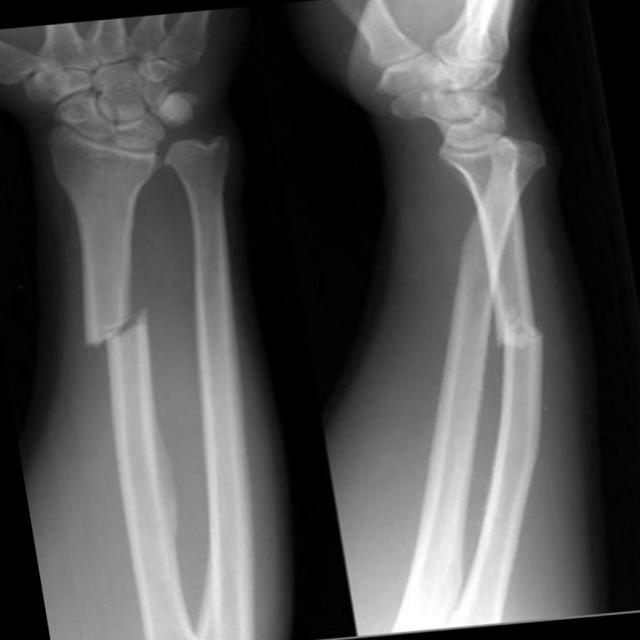Oblique Displaced: (65, 288, 174, 383)
Transverse Displaced: (488, 307, 560, 358)
